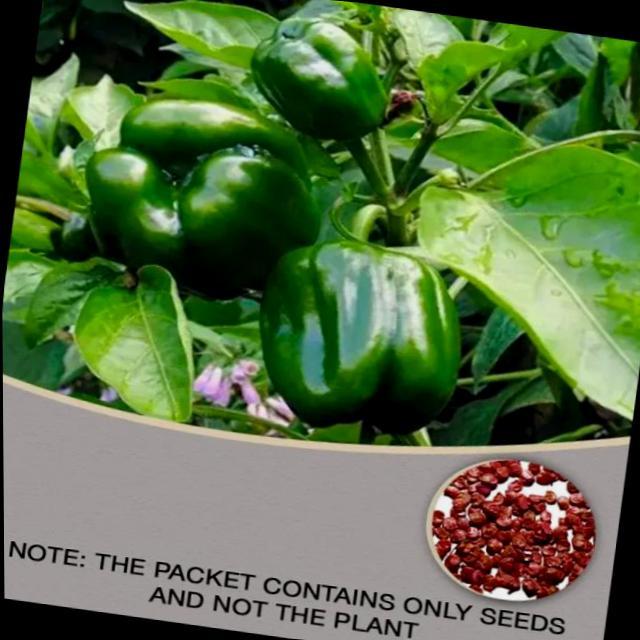Capsicum: (74, 86, 325, 292), (245, 229, 471, 439), (243, 9, 397, 148)
